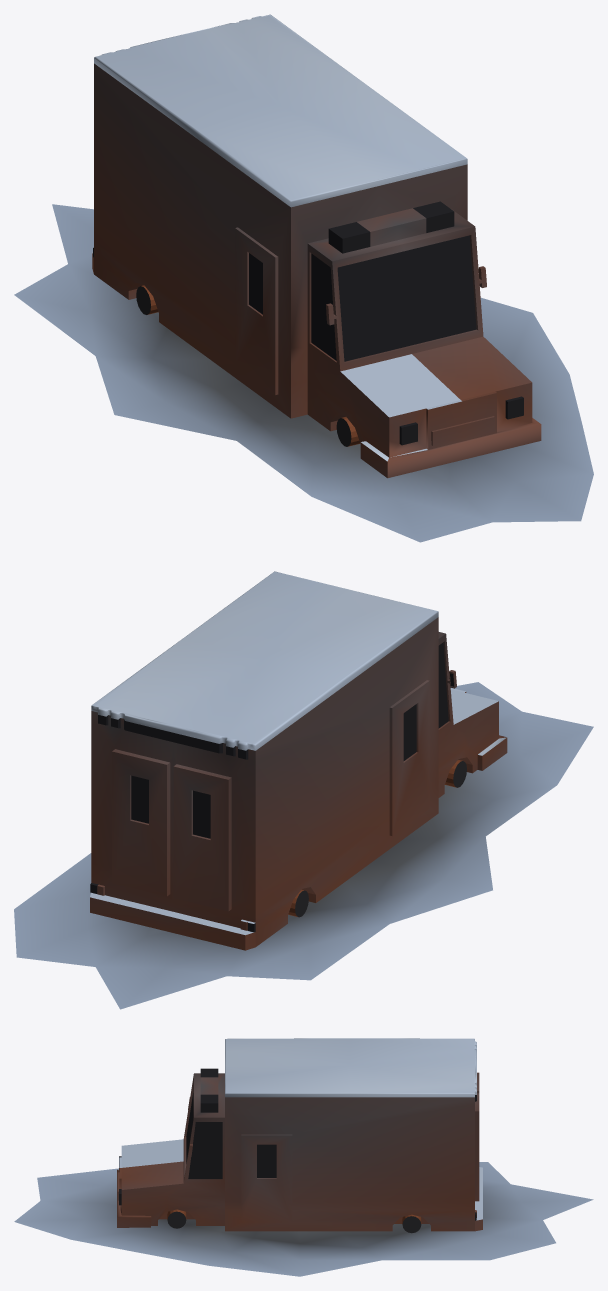
File: ambulance_burnt.glb
3 views of the same model, one above another, from view 1: azimuth 30°, elevation 25°; view 2: azimuth 150°, elevation 25°; view 3: azimuth 270°, elevation 25° (orthographic). The views are drawn at different scales.
Visible parts, largest first — view 1: Body; view 2: Body; view 3: Body.
Boxes of the visible parts, bbox=[...] form: Body: bbox=[14, 14, 593, 542]; Body: bbox=[14, 571, 593, 1009]; Body: bbox=[14, 1038, 593, 1276].
Size of the model in its own units: 5.28 by 2.77 by 9.98.
